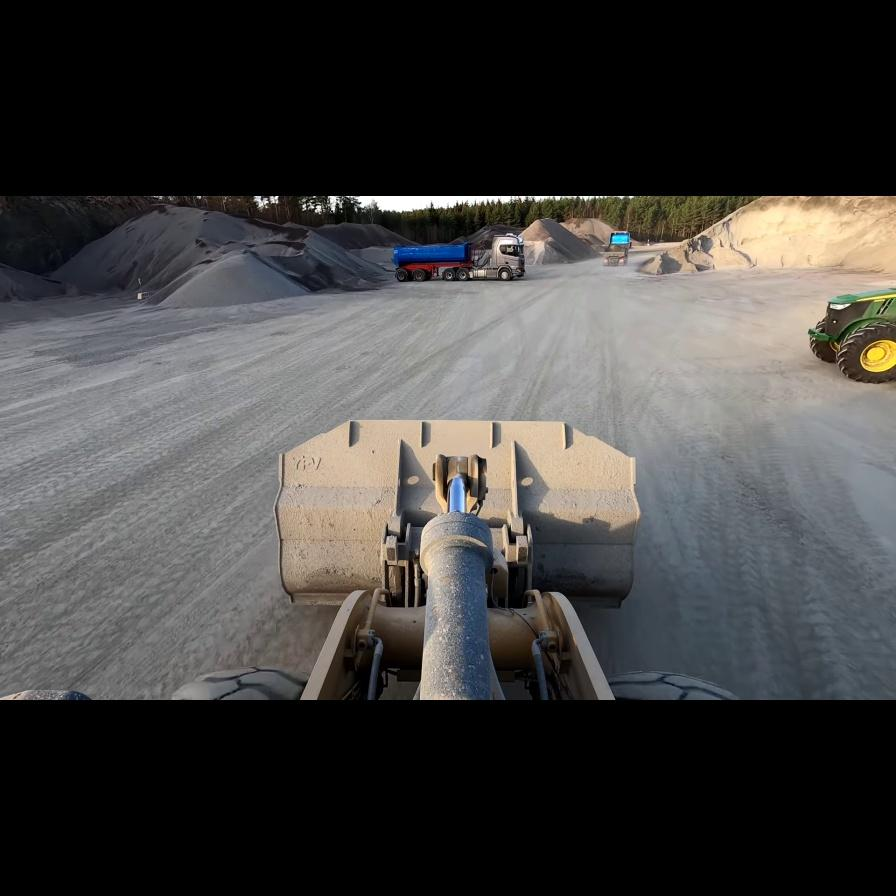pile of gravel: (47, 203, 392, 307), (288, 206, 430, 248), (0, 247, 67, 313)
